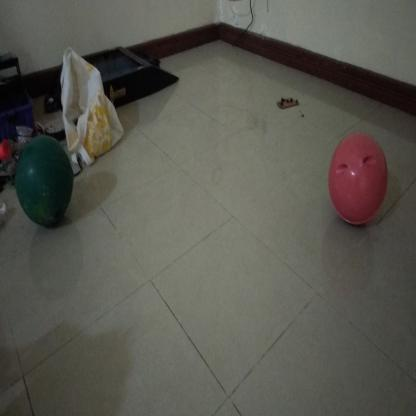green_buoy: (14, 132, 74, 228)
red_buoy: (326, 130, 390, 230)
